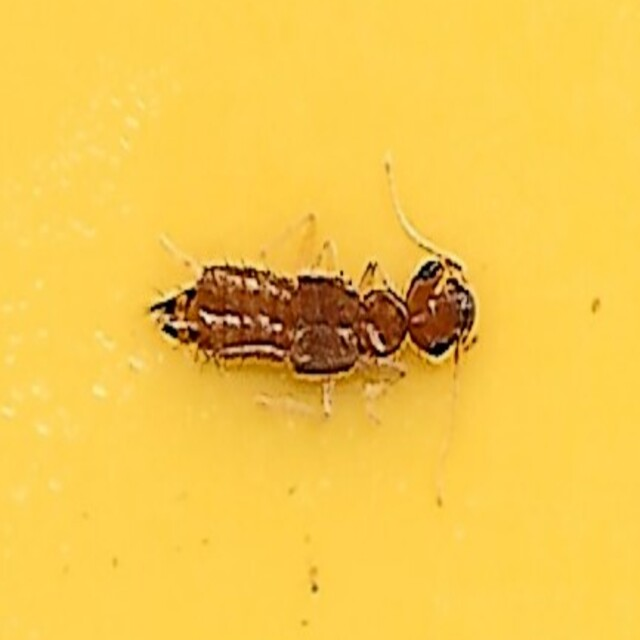Coleoptera: (148, 240, 492, 400)
